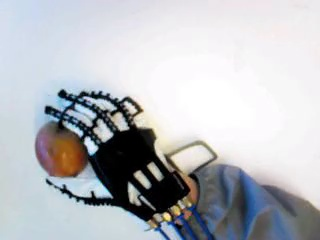apple: (33, 119, 90, 178)
hand: (45, 87, 191, 228)
